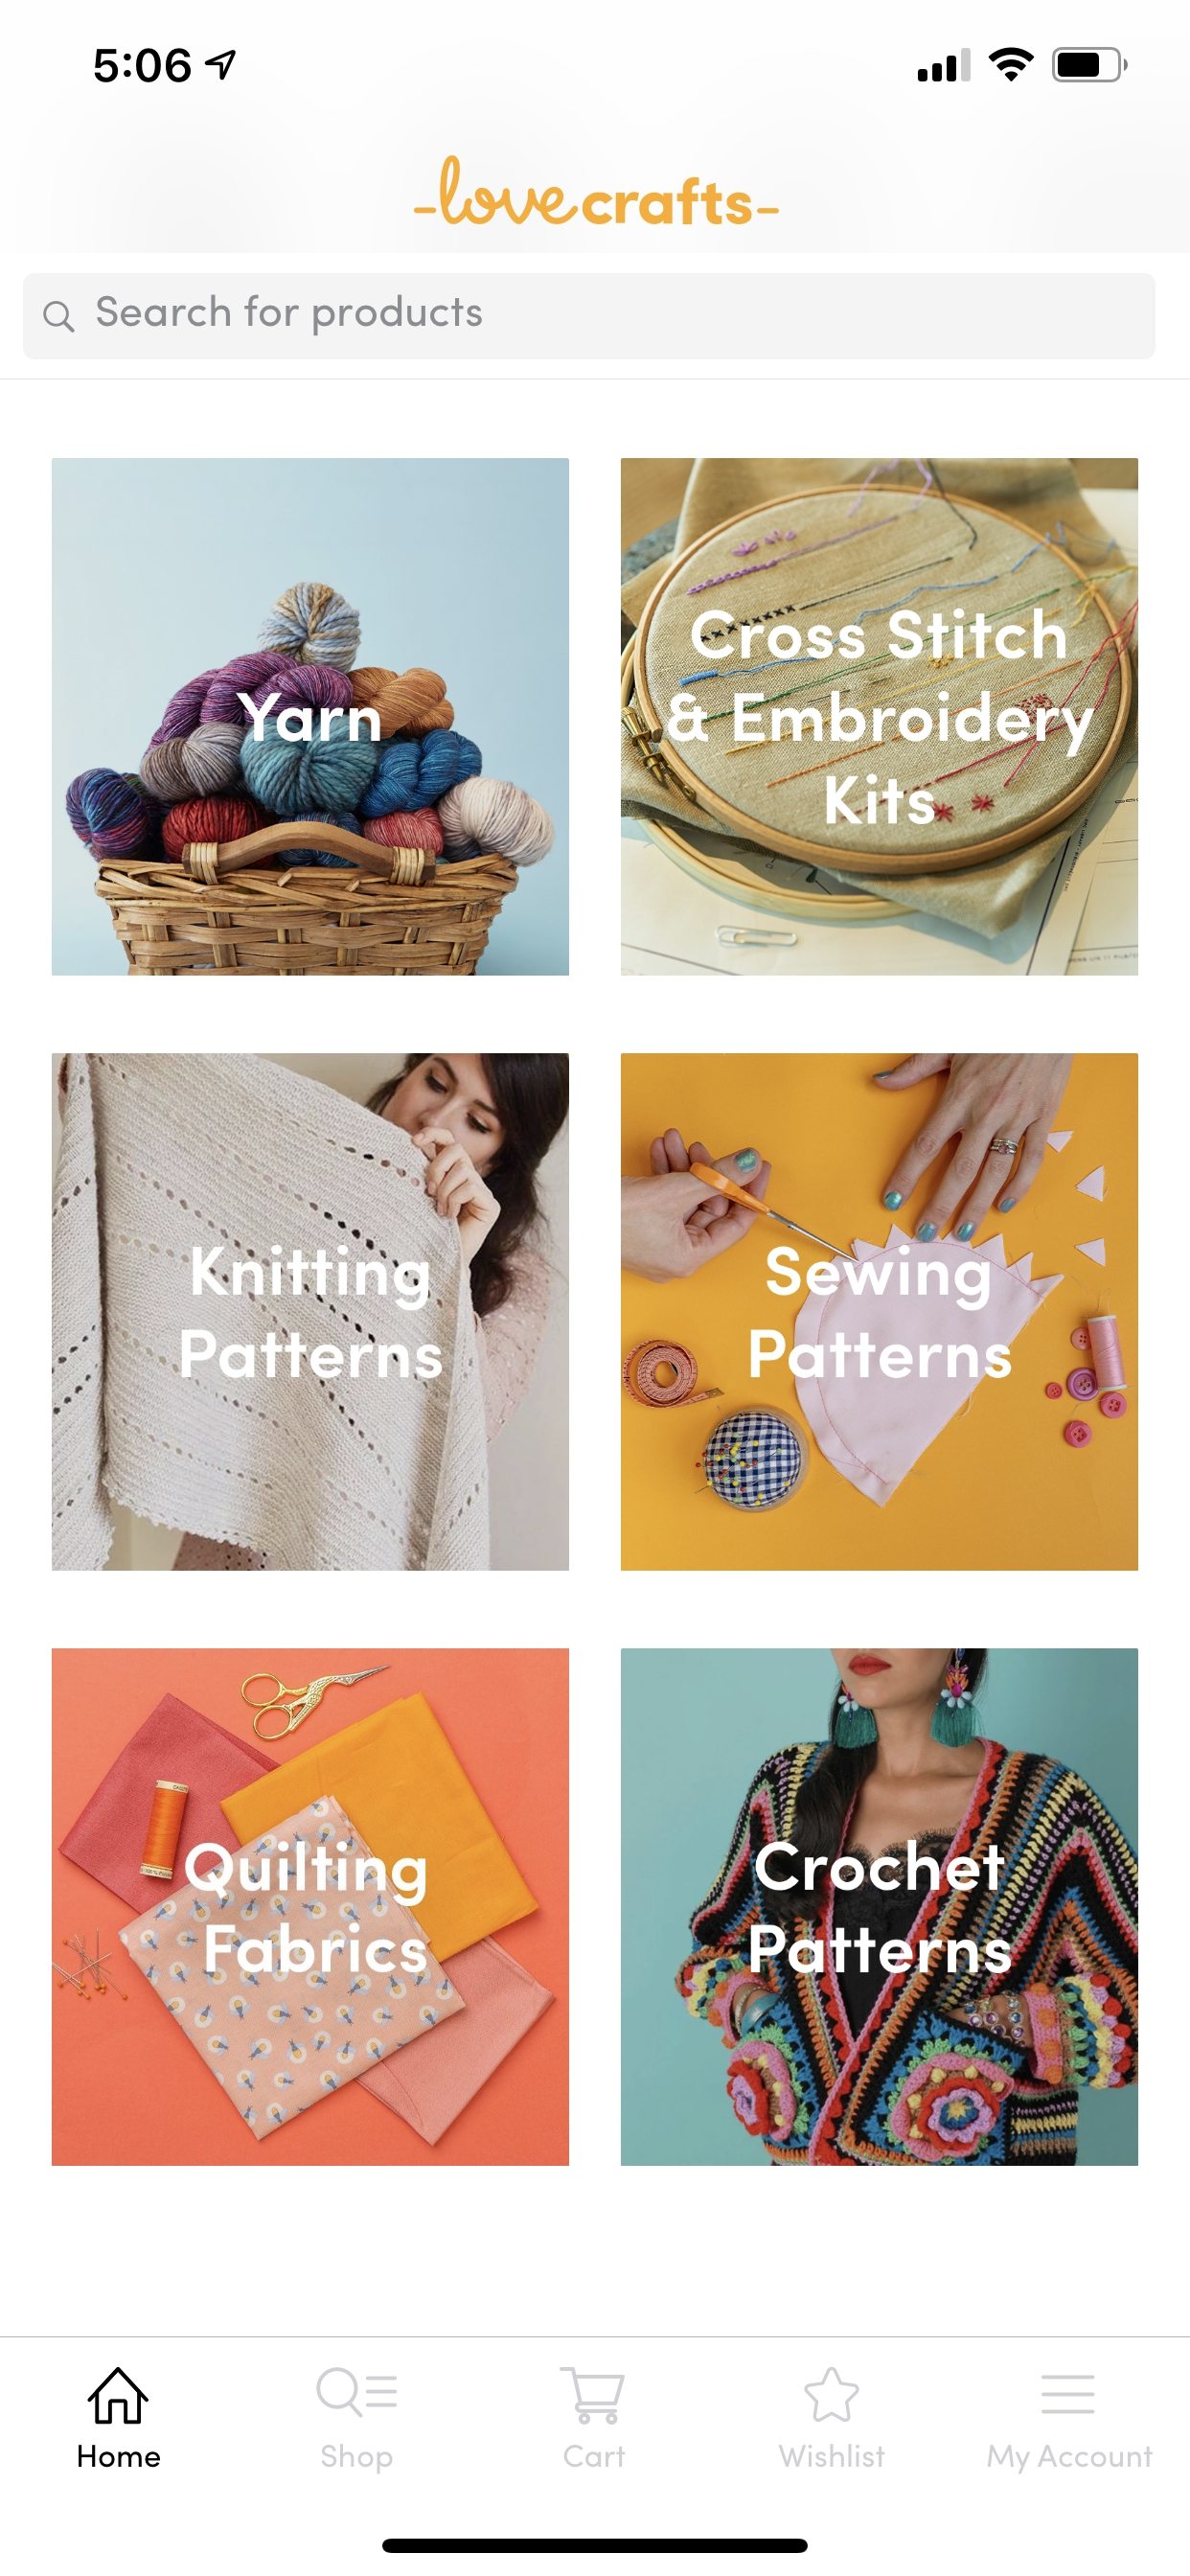EditText: (23, 273, 1155, 360)
Icon: (316, 2366, 398, 2418), (559, 2366, 625, 2425), (89, 2367, 150, 2425), (804, 2366, 860, 2422), (1040, 2374, 1095, 2413), (43, 301, 76, 333)
Image: (621, 1648, 1139, 2165), (51, 1648, 569, 2165), (51, 1053, 569, 1571), (621, 1053, 1139, 1571), (621, 458, 1139, 976), (51, 458, 569, 976), (414, 156, 779, 225)
Text: (669, 608, 1095, 825), (750, 1245, 1012, 1378), (750, 1840, 1011, 1973), (181, 1245, 442, 1378), (186, 1840, 427, 1971), (97, 294, 482, 329), (235, 693, 381, 743), (986, 2445, 1152, 2474), (777, 2443, 886, 2468), (322, 2443, 393, 2474), (79, 2445, 161, 2468), (564, 2445, 626, 2468)
UpperTaskBar: (94, 48, 1128, 84)
